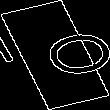O_W: (9, 26, 101, 84)
